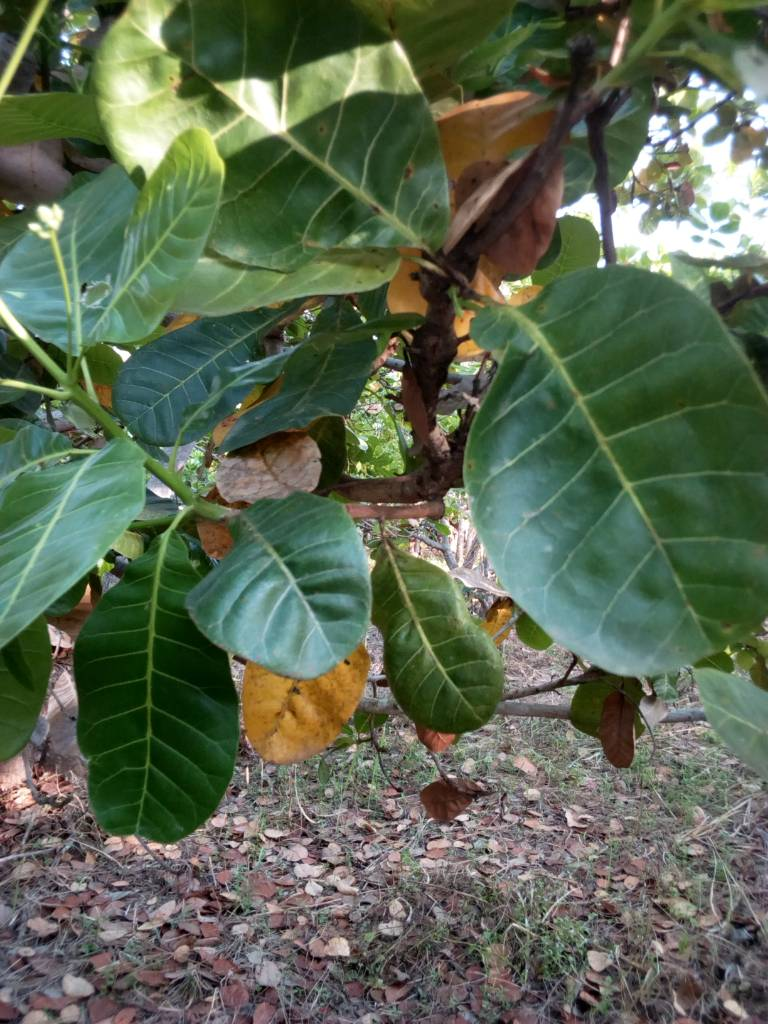Helopeltis anacardii: (482, 303, 768, 671), (97, 1, 449, 257), (197, 492, 375, 675), (219, 302, 382, 450), (380, 555, 508, 730)
